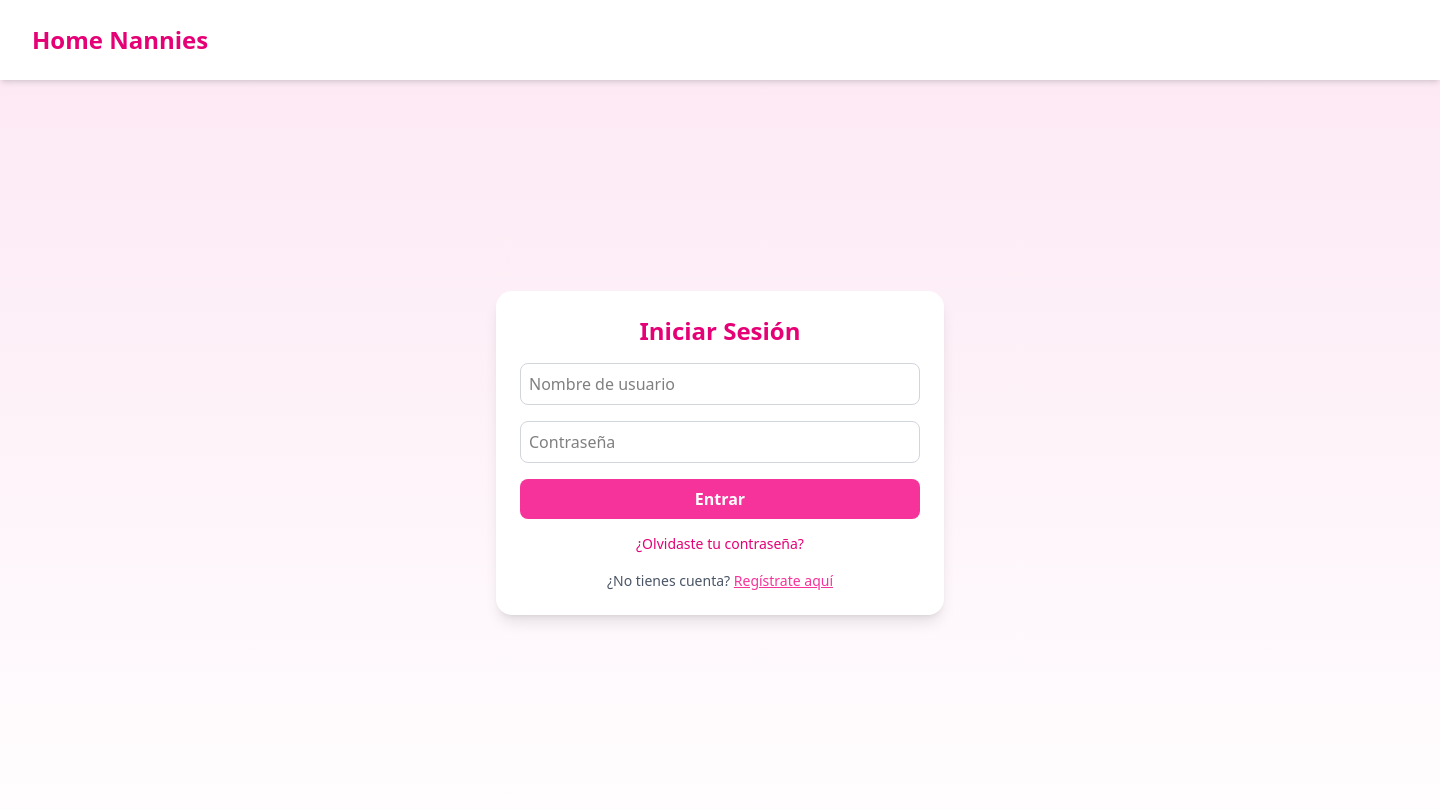
Test: Login Component › valida longitud mínima de usuario
Type "ab" into the field with placeholder "Nombre de usuario" at (720, 384), box 520,363 -> 920,405
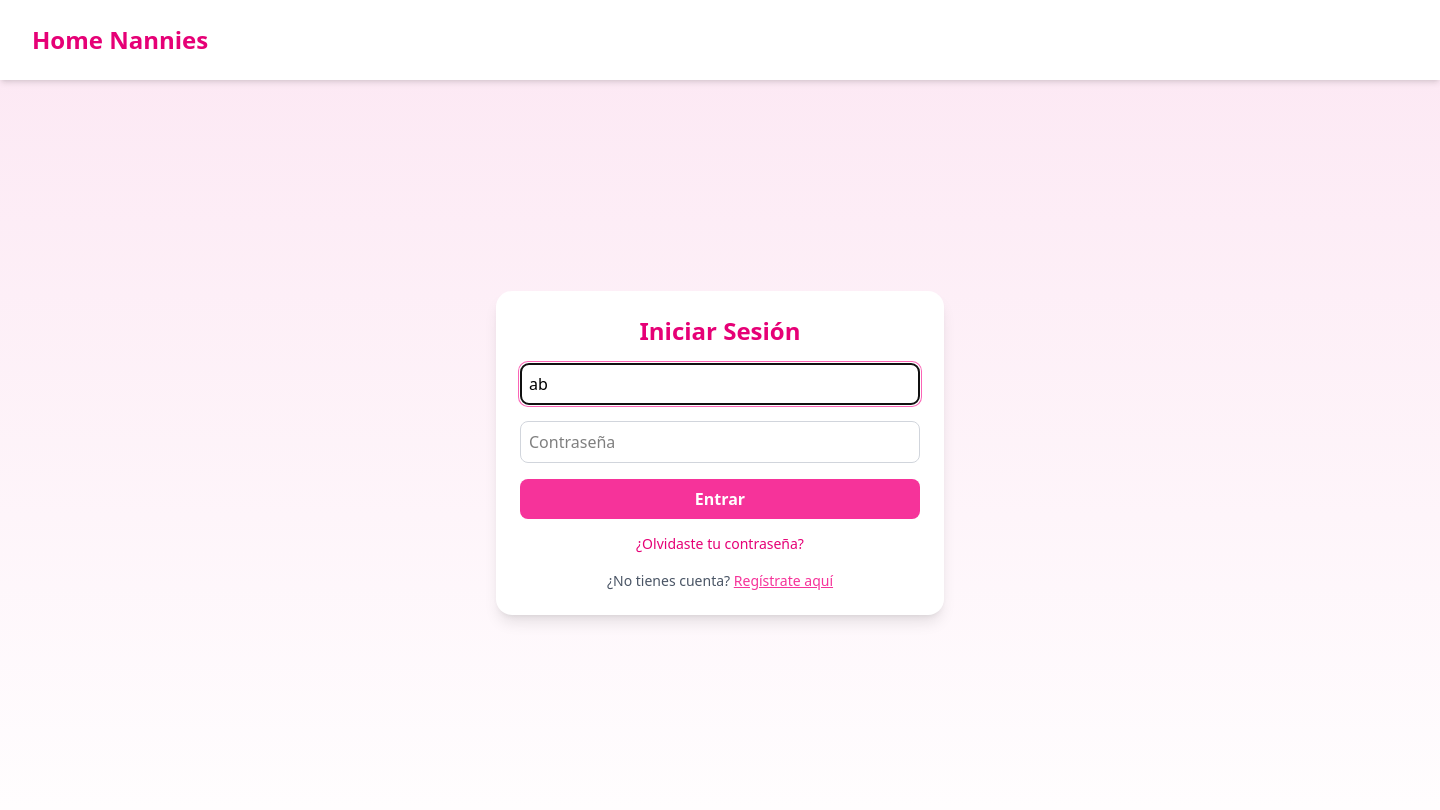
Type "password1234" into the password field with placeholder "Contraseña" at (720, 442), box 520,421 -> 920,463
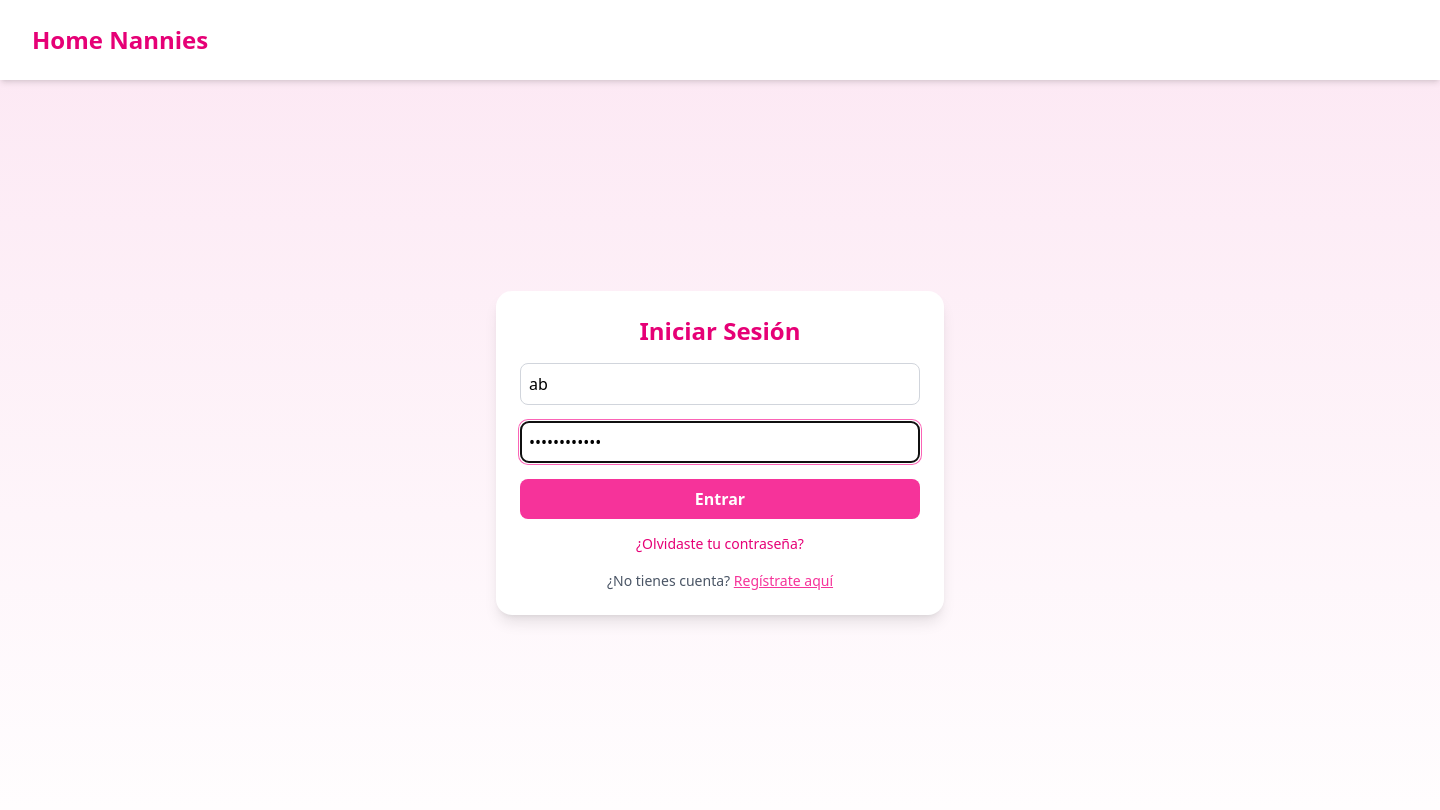
Click the button "Entrar" at (720, 499), box 520,479 -> 920,519
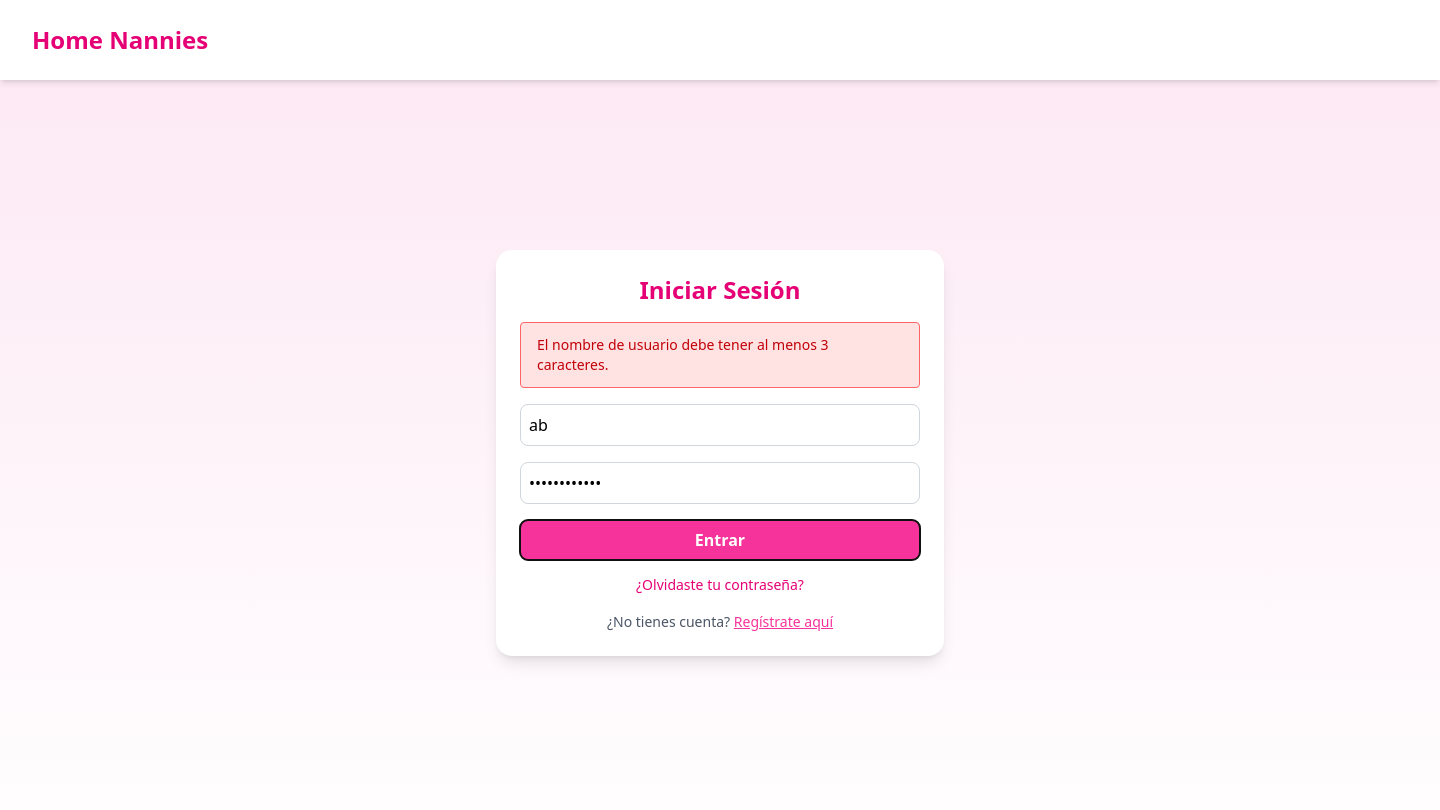
Check: the text "El nombre de usuario debe tener al menos 3 caracteres." is shown, box 520,322 -> 920,388
